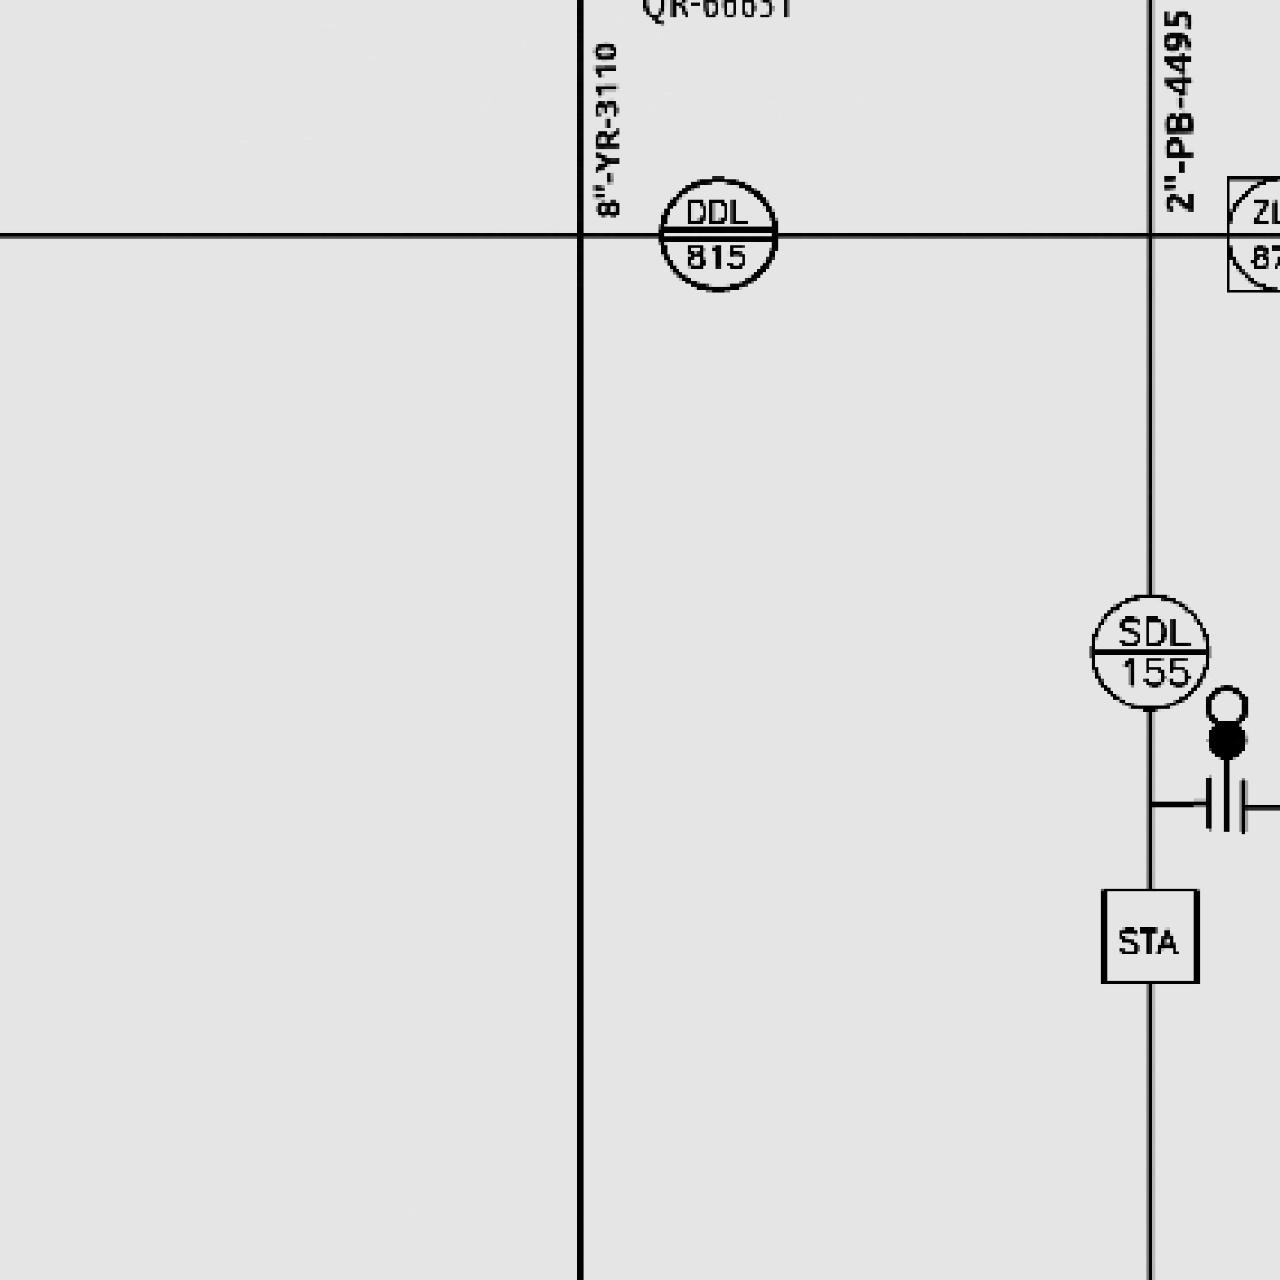Control-Panel: (654, 170, 781, 297)
